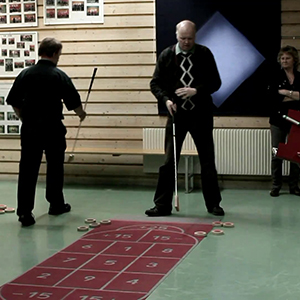person: (147, 18, 230, 219), (4, 36, 88, 229)
